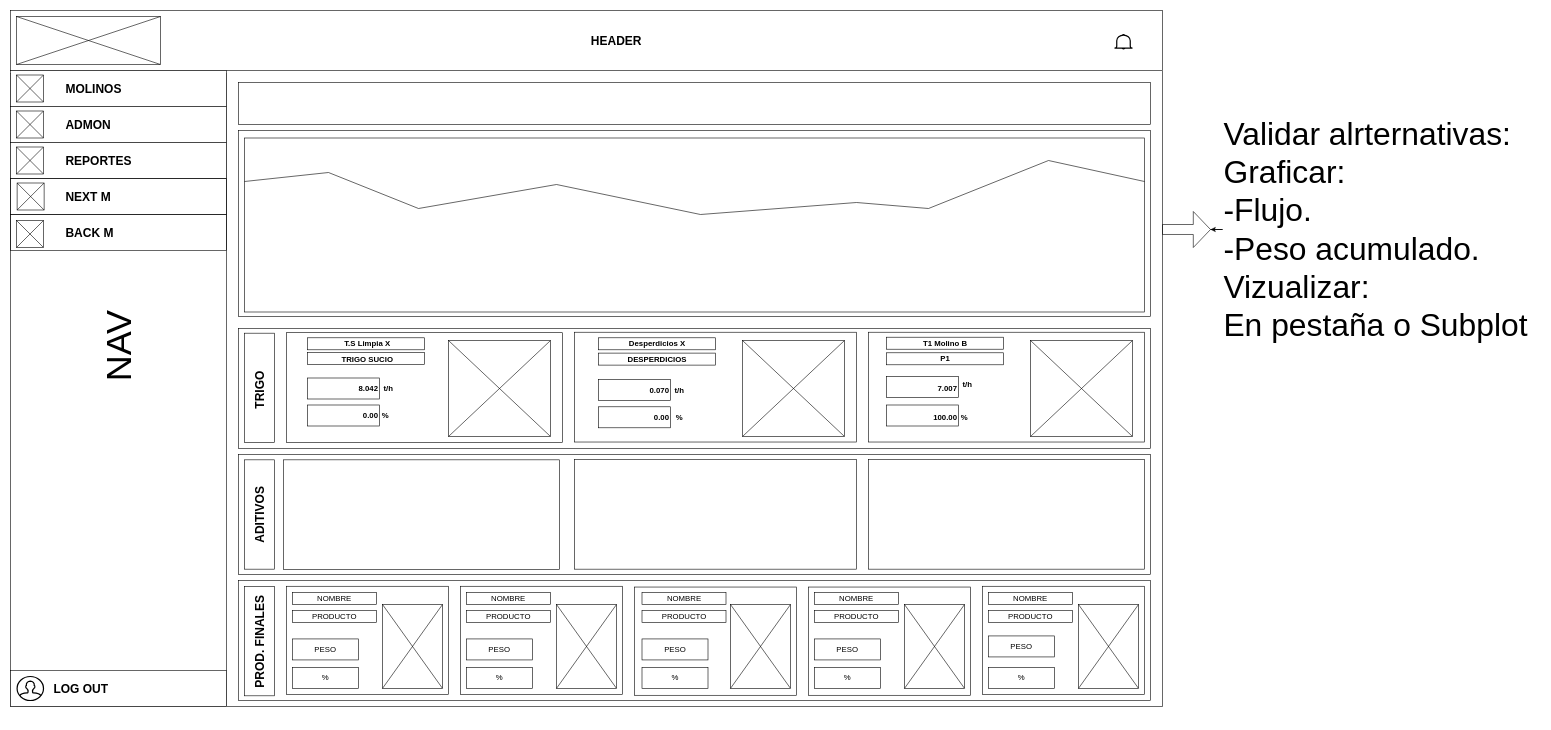
This 1551x730 diagram has some shape labels left out. The box of each missing label's shape, as (x1, y1, x2, y2) in pixels:
CHART: (244, 137, 1144, 312)
IMAGEN: (16, 16, 160, 64)
MOLINO X: (238, 82, 1150, 124)
